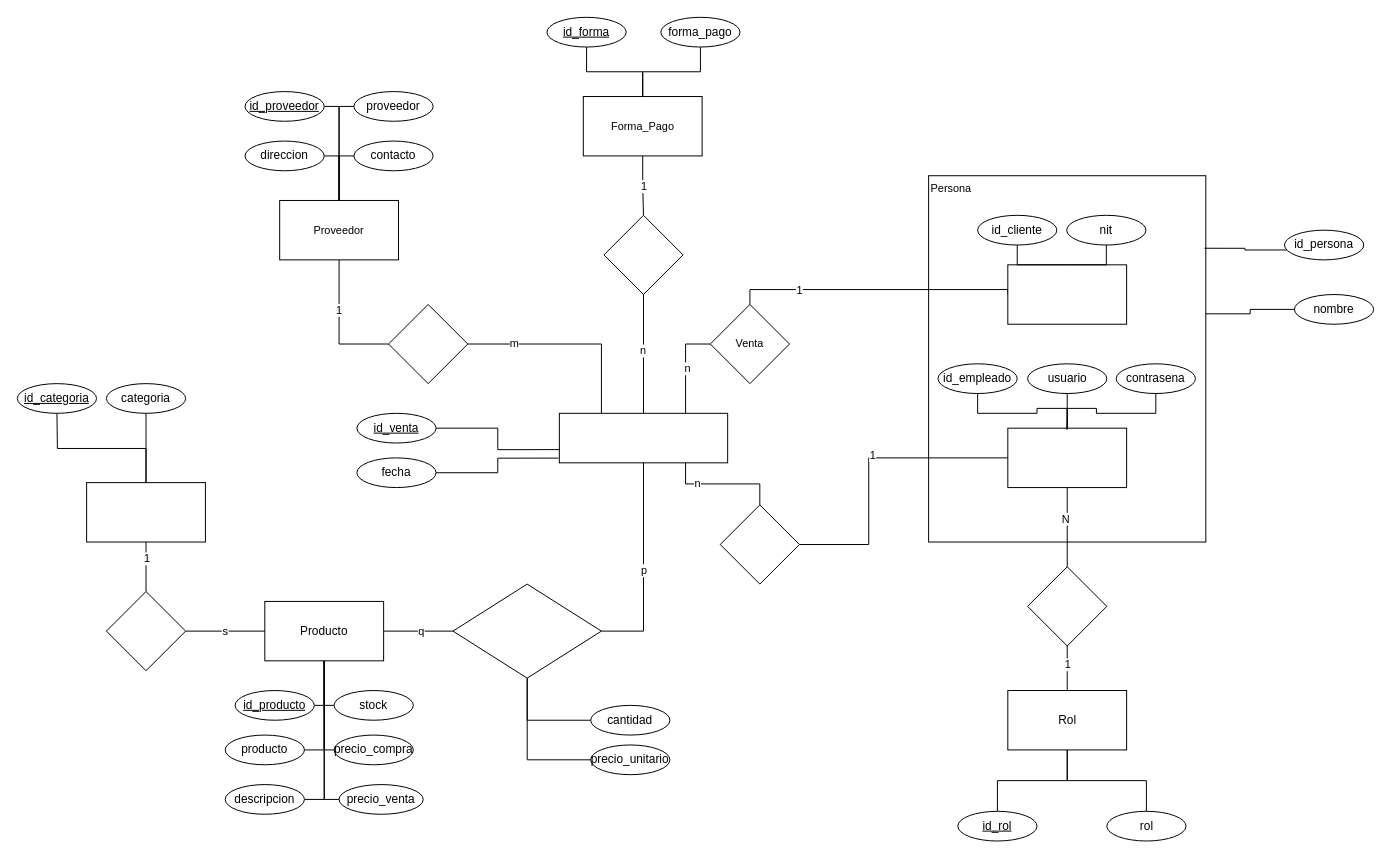
This 1391x858 diagram has some shape labels left out. The shapes that lost their labels are listed below. From the top down, each one's centre as x and y in pixels, then its label:
At (x=1067, y=294): "Cliente".
At (x=428, y=343): "Compra".
At (x=643, y=437): "Transaccion".
At (x=1067, y=457): "Empleado".
At (x=145, y=512): "Categoría".
At (x=526, y=630): "Detalle_transaccion".
